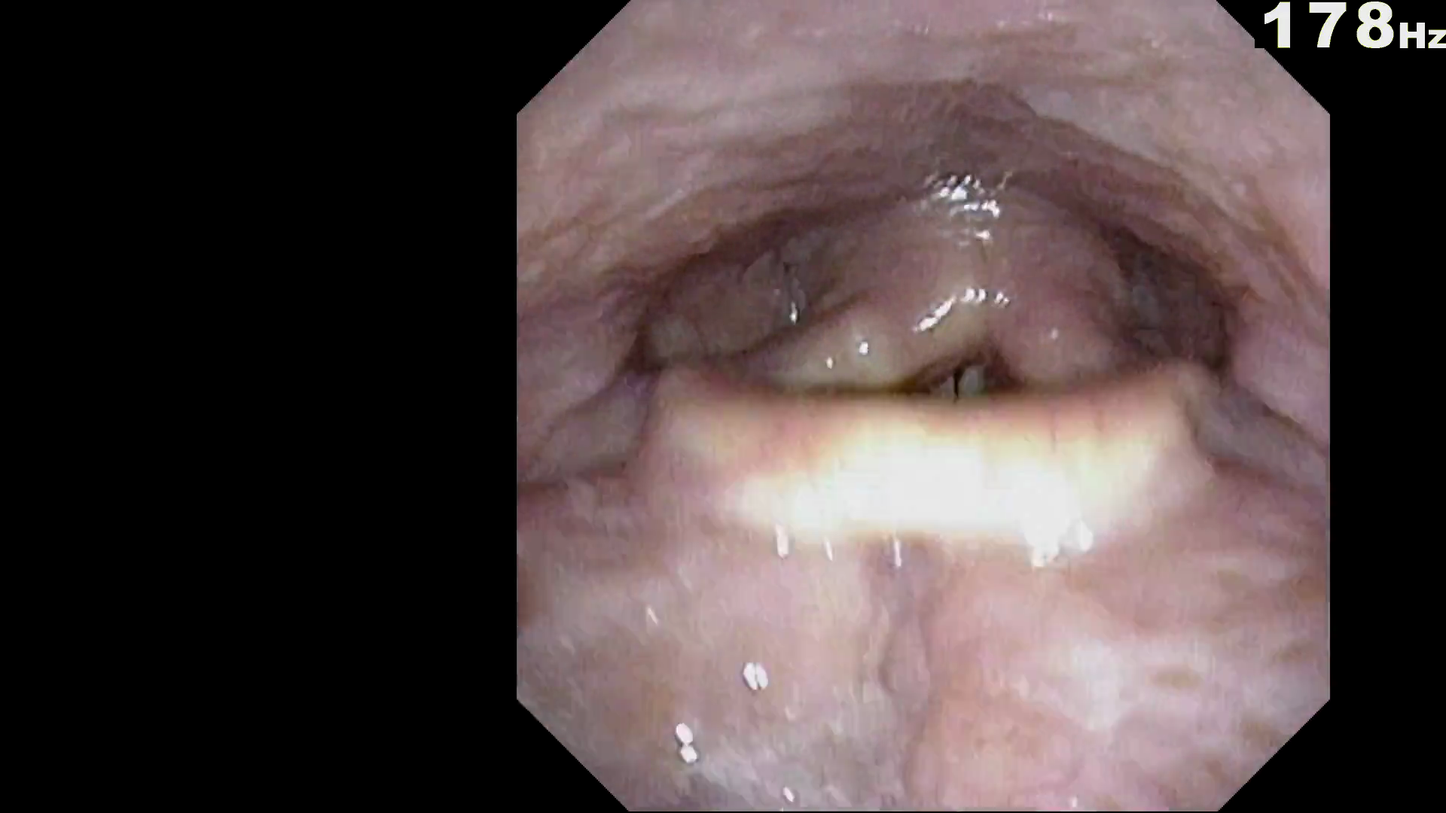epiglottis: (635, 363, 1234, 593)
trachea: (866, 275, 1033, 483)
